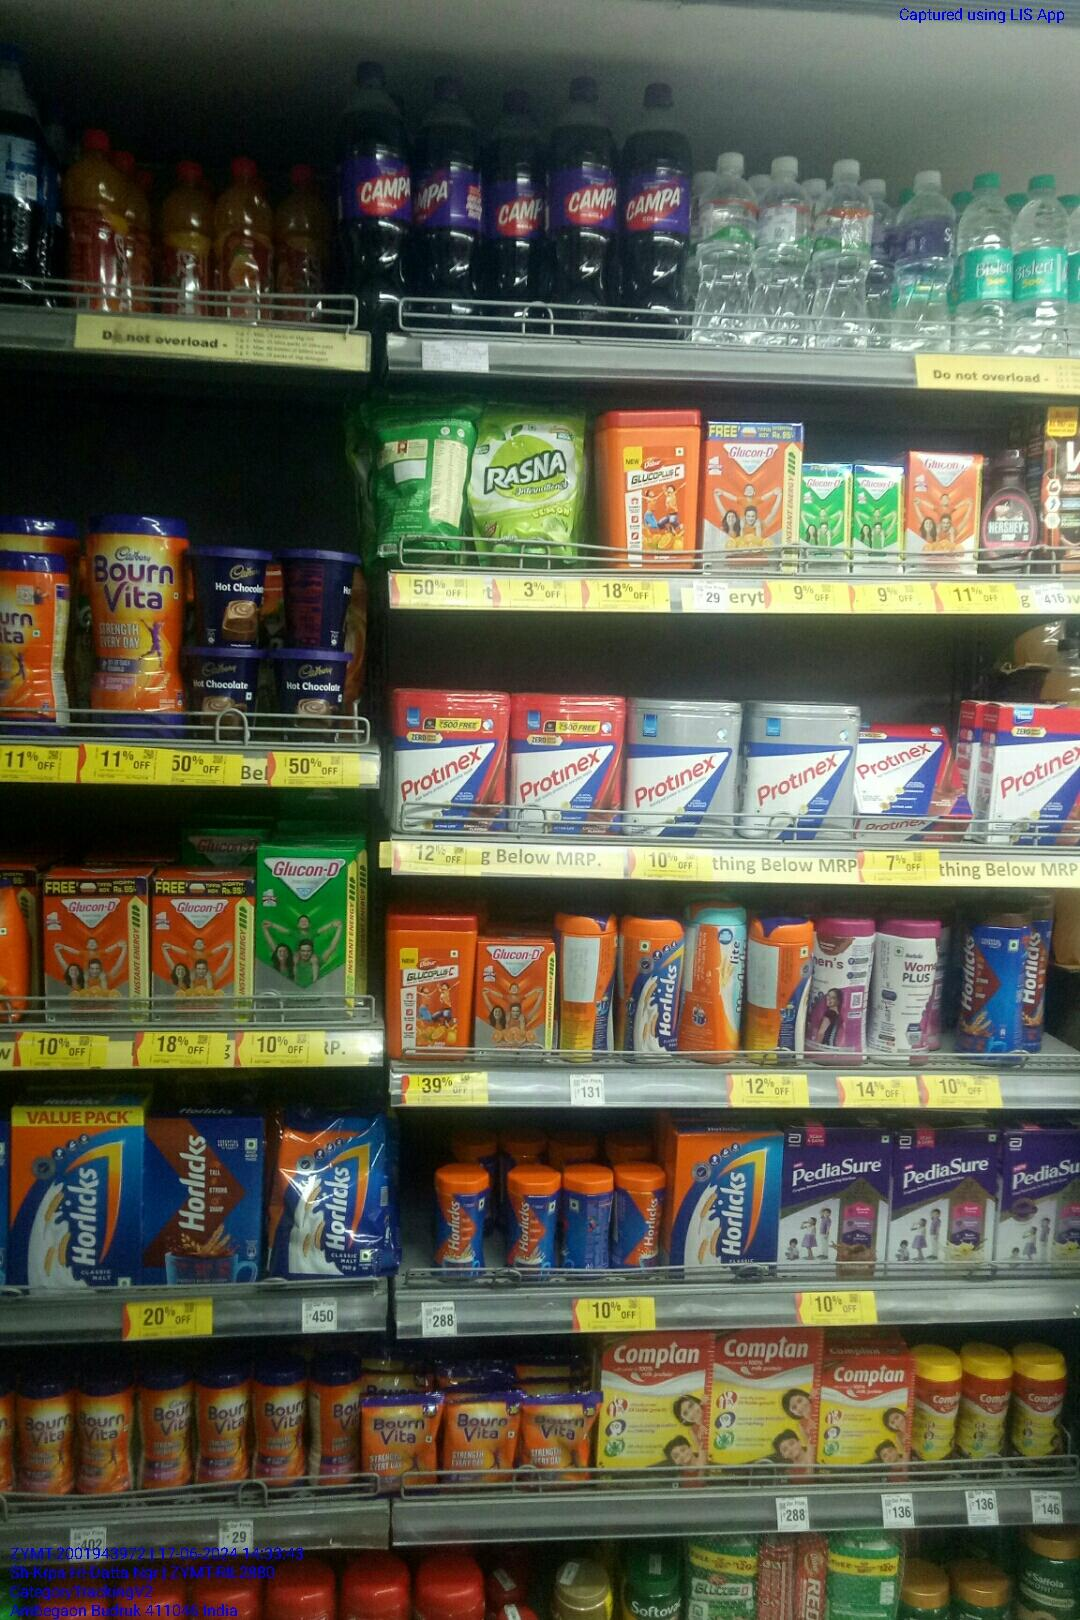BOURN_VITA_1_KG_JAR: (83, 513, 188, 724)
BOURN_VITA_200_G_JAR: (137, 1366, 194, 1508), (20, 1368, 77, 1508), (310, 1351, 363, 1492), (195, 1362, 251, 1496), (80, 1370, 133, 1503), (258, 1352, 305, 1496)
COMPLAN_CHOCOLATE_200_GMS_JAR: (961, 1339, 1014, 1478), (1016, 1336, 1066, 1473), (911, 1342, 956, 1477)
COMPLAN_CHOCOLATE_200_GMS_PACK: (818, 1357, 910, 1483)
COMPLAN_CHOCOLATE_500_GMS_PACK: (709, 1330, 815, 1480), (599, 1334, 702, 1483)
HORLICK_CHOCOLATE_500_G_PACK: (143, 1119, 265, 1281)
HORLICK_CLASSIC_MALT_200_G_JAR: (432, 1162, 486, 1285), (506, 1162, 557, 1279), (616, 1158, 663, 1270)
HORLICK_CLASSIC_MALT_500_G_PACK: (12, 1109, 140, 1286), (675, 1131, 777, 1275)
HORLICK_CLASSIC_MALT_750_G_POUCH: (268, 1110, 389, 1273)
PEDIASURE_CHOCOLATE_500_G_PACK: (785, 1127, 885, 1279)
PEDIASURE_VANILLA_500_G_PACK: (891, 1127, 993, 1279), (997, 1125, 1080, 1273)
PROTINEX_CHOCOLATE_400_G_JAR: (394, 689, 509, 830), (513, 697, 618, 840)
PROTINEX_ORIGINAL_400_G_JAR: (627, 695, 740, 840), (747, 700, 853, 837)
